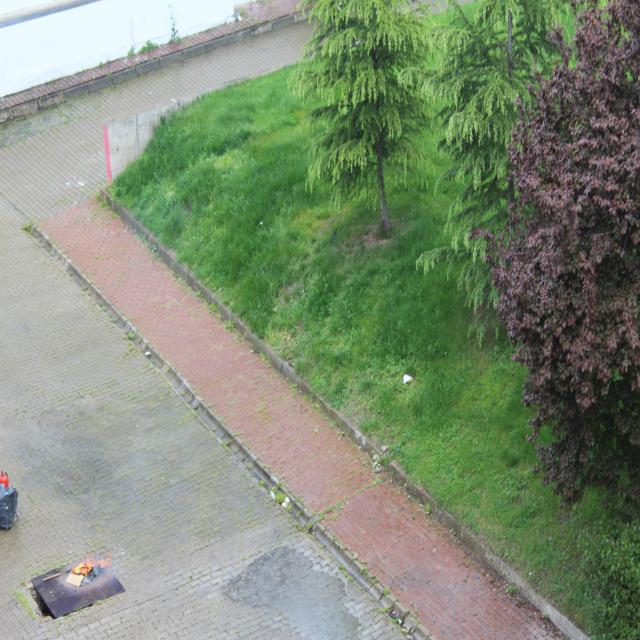fire: (70, 548, 114, 578)
